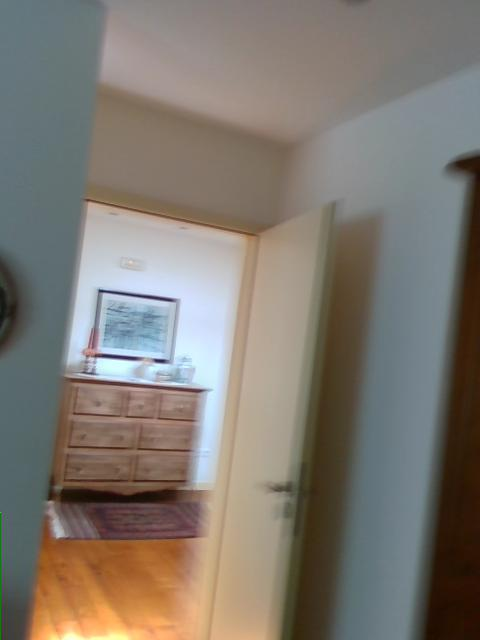door: (210, 183, 333, 640)
